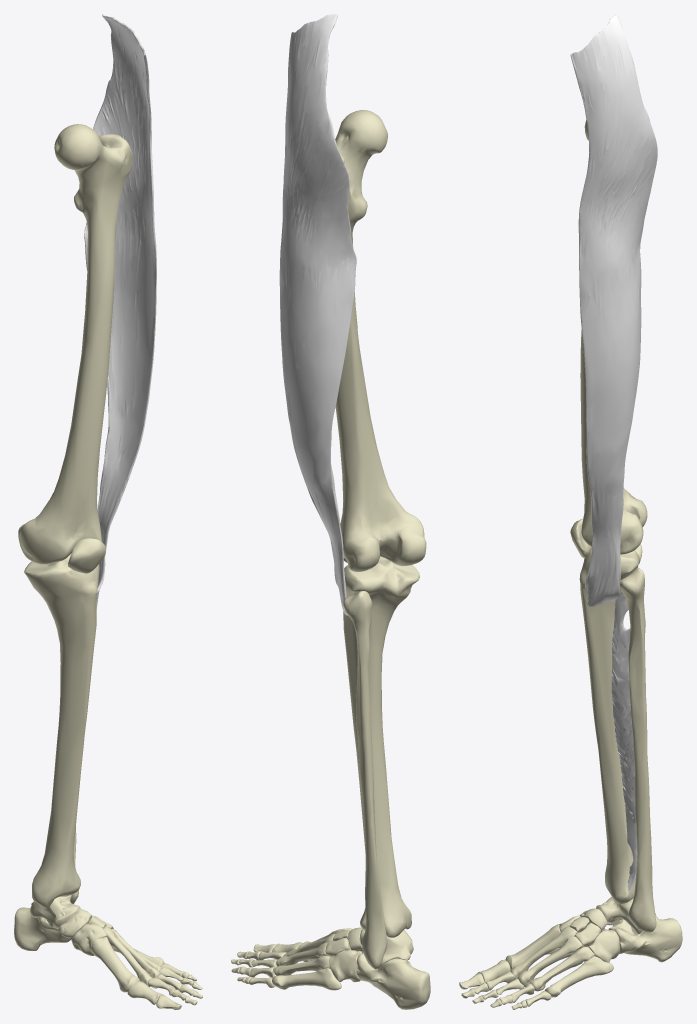
The model's file is left leg.fbx.
The picture shows the model from 3 angles, left to right: view 1: azimuth 30°, elevation 25°; view 2: azimuth 210°, elevation 25°; view 3: azimuth 270°, elevation 25°; orthographic projection. The views are drawn at different scales.
Visible parts, largest first — view 1: Left iliotibial tract, Left femur, Left tibia, Left calcaneus, Left first metatarsal bone, Left patella, Left talus, Left medial cuneiform bone, Left second metatarsal bone, Navicular bone of left foot, Proximal phalanx of left big toe; view 2: Left iliotibial tract, Left femur, Left tibia, Left fibula, Left calcaneus, Left fifth metatarsal bone, Left cuboid bone, Left talus, Left fourth metatarsal bone, Left third metatarsal bone; view 3: Left iliotibial tract, Left tibia, Left fibula, Interosseous membrane of left leg, Left femur, Left calcaneus, Left fifth metatarsal bone, Left third metatarsal bone, Left fourth metatarsal bone, Left cuboid bone, Left second metatarsal bone, Left first metatarsal bone (+1 smaller).
Boxes of the visible parts, x1,y1,x2,y2 form: Left iliotibial tract: (84, 14, 156, 607); Left femur: (18, 124, 132, 564); Left tibia: (24, 553, 99, 908); Left calcaneus: (14, 907, 72, 950); Left first metatarsal bone: (91, 937, 139, 992); Left patella: (68, 538, 105, 573); Left talus: (30, 895, 80, 929); Left medial cuneiform bone: (71, 923, 107, 955); Left second metatarsal bone: (103, 926, 152, 986); Navicular bone of left foot: (59, 908, 91, 937); Proximal phalanx of left big toe: (127, 981, 162, 1004); Left iliotibial tract: (279, 14, 356, 615); Left femur: (335, 110, 426, 571); Left tibia: (343, 556, 419, 937); Left fibula: (343, 591, 387, 969); Left calcaneus: (356, 952, 430, 1009); Left fifth metatarsal bone: (272, 968, 341, 990); Left cuboid bone: (329, 950, 361, 982); Left talus: (360, 929, 413, 968); Left fourth metatarsal bone: (274, 956, 331, 975); Left third metatarsal bone: (276, 942, 333, 966); Left iliotibial tract: (570, 14, 657, 606); Left tibia: (579, 544, 642, 903); Left fibula: (620, 567, 656, 932); Interosseous membrane of left leg: (611, 591, 637, 890); Left femur: (580, 120, 647, 554); Left calcaneus: (608, 915, 682, 962); Left fifth metatarsal bone: (545, 956, 613, 997); Left third metatarsal bone: (517, 936, 582, 986); Left fourth metatarsal bone: (529, 946, 594, 991); Left cuboid bone: (588, 929, 620, 962); Left second metatarsal bone: (510, 926, 577, 979); Left first metatarsal bone: (505, 924, 560, 970).
Bounding box in the file's own units: 1374 × 10180 × 2114.
